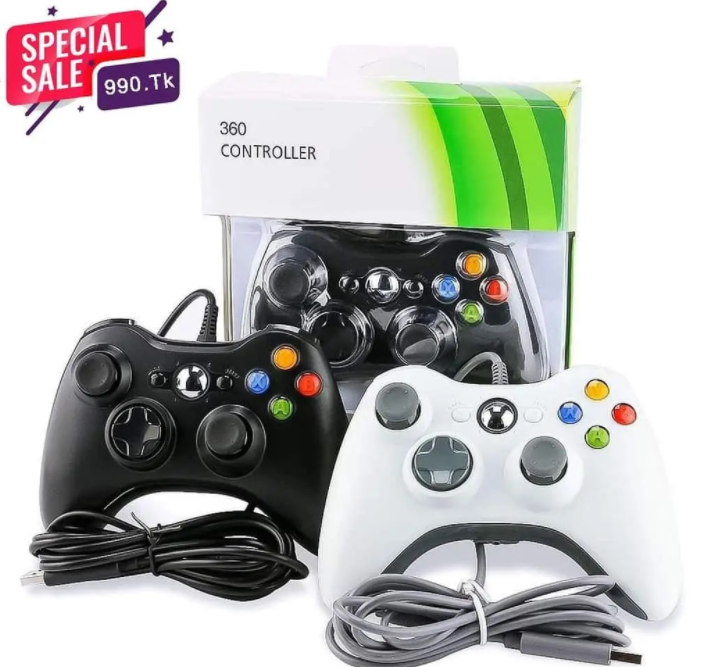gamingconsole: (322, 365, 685, 624), (44, 319, 348, 541)
